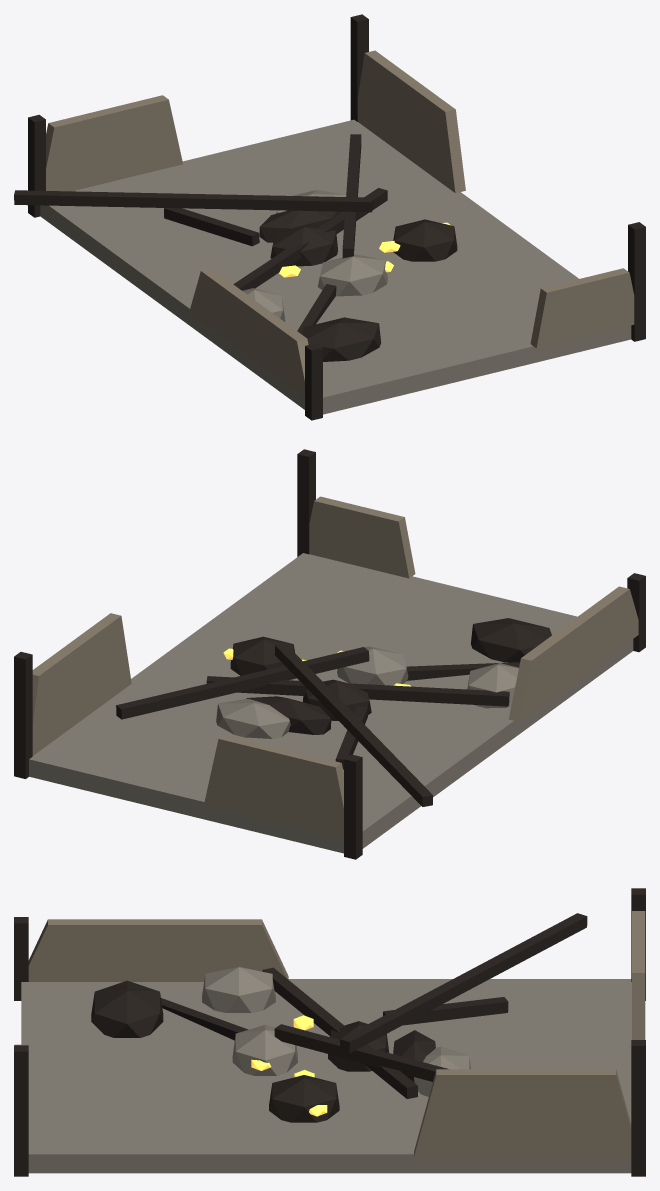
Rendered from Dorf_Kapelle_Ruine.fbx.
The picture shows the model from 3 angles, top to bottom: view 1: azimuth 30°, elevation 25°; view 2: azimuth 150°, elevation 25°; view 3: azimuth 270°, elevation 25°; orthographic projection. The views are drawn at different scales.
Visible parts, largest first — view 1: Dorf_Kapelle_Ruine; view 2: Dorf_Kapelle_Ruine; view 3: Dorf_Kapelle_Ruine.
Part boxes in pixels (<box>): Dorf_Kapelle_Ruine: <box>14,14,645,420</box>; Dorf_Kapelle_Ruine: <box>14,449,645,859</box>; Dorf_Kapelle_Ruine: <box>14,888,645,1176</box>.
Size of the model in its own units: 7.93 by 2.42 by 10.28.
